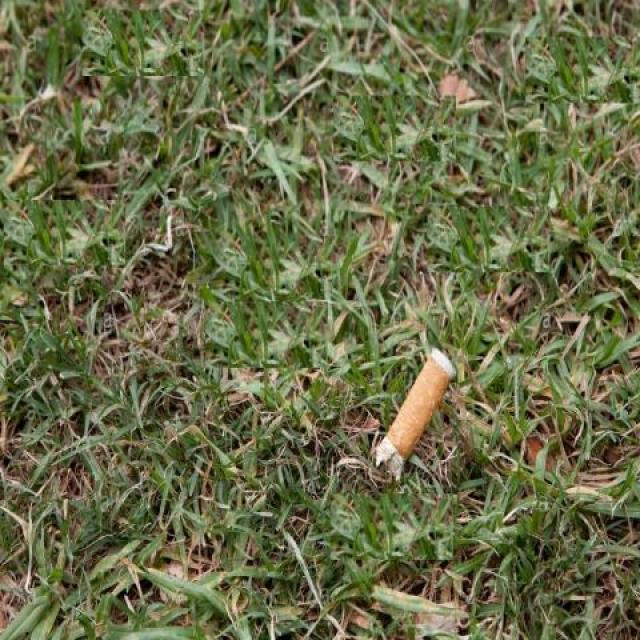non-organic waste: (364, 337, 460, 484)
